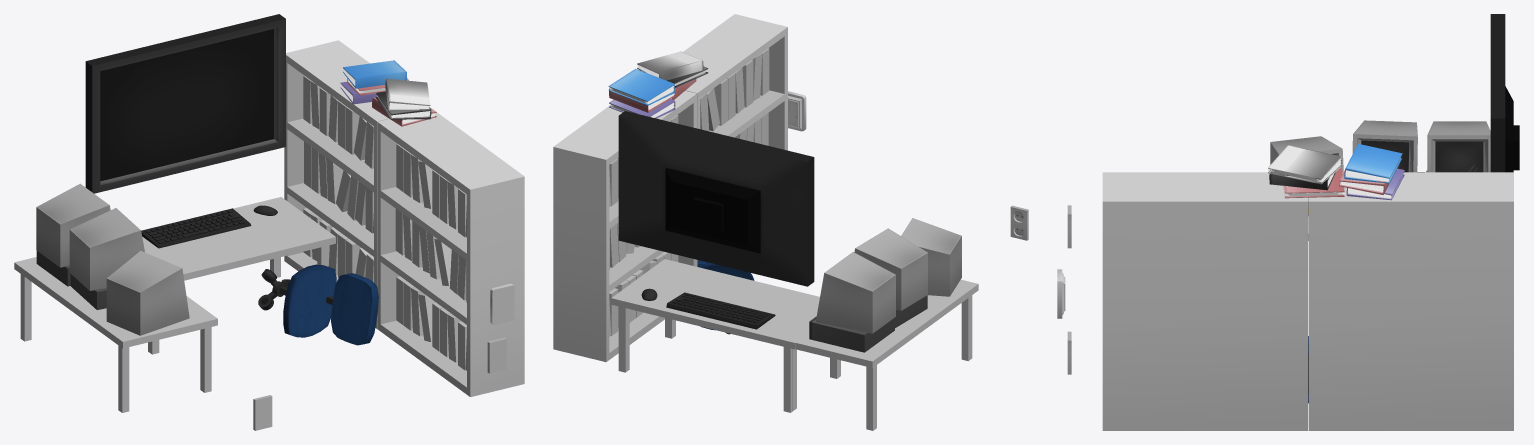
The model's file is RoomEndSet.FBX.
3 views of the same model, side by side, from view 1: azimuth 30°, elevation 25°; view 2: azimuth 150°, elevation 25°; view 3: azimuth 270°, elevation 25° (orthographic). The views are drawn at different scales.
Parts seen in each view (by area): view 1: moniter0 003, bookshelf039, bookshelf040, Books016, Books017, Box570, Box585, Box572, Box583, Box581, Box579, keyboard004 (+8 smaller); view 2: moniter0 003, bookshelf040, Box570, bookshelf039, Box572, Box579, Books016, Box581, Box583, Books017, keyboard004, Box580 (+8 smaller); view 3: bookshelf039, bookshelf040, moniter0 003, Box579, Box581, Box578, Box575, Box583, Box576, Box573, Box577, Box574.
Part boxes in pixels (left/top/right/bottom): moniter0 003: left=85, top=14, right=285, bottom=193; bookshelf039: left=377, top=109, right=524, bottom=396; bookshelf040: left=284, top=40, right=431, bottom=328; Books016: left=395, top=144, right=466, bottom=370; Books017: left=303, top=75, right=373, bottom=282; Box570: left=142, top=197, right=335, bottom=354; Box585: left=258, top=264, right=378, bottom=345; Box572: left=14, top=257, right=217, bottom=412; Box583: left=106, top=251, right=189, bottom=335; Box581: left=69, top=208, right=144, bottom=290; Box579: left=36, top=183, right=110, bottom=267; keyboard004: left=141, top=208, right=251, bottom=248; moniter0 003: left=618, top=111, right=814, bottom=286; bookshelf040: left=553, top=90, right=696, bottom=362; Box570: left=611, top=259, right=840, bottom=412; bookshelf039: left=683, top=14, right=787, bottom=266; Box572: left=781, top=279, right=978, bottom=430; Box579: left=815, top=252, right=895, bottom=333; Books016: left=700, top=48, right=769, bottom=145; Box581: left=854, top=228, right=927, bottom=310; Box583: left=901, top=218, right=961, bottom=296; Books017: left=609, top=115, right=678, bottom=336; keyboard004: left=666, top=292, right=775, bottom=329; Box580: left=809, top=316, right=894, bottom=352; bookshelf039: left=1102, top=172, right=1307, bottom=430; bookshelf040: left=1308, top=172, right=1513, bottom=430; moniter0 003: left=1490, top=14, right=1519, bottom=172; Box579: left=1427, top=121, right=1490, bottom=172; Box581: left=1352, top=120, right=1417, bottom=172; Box578: left=1268, top=145, right=1341, bottom=184; Box575: left=1344, top=144, right=1402, bottom=183; Box583: left=1270, top=136, right=1343, bottom=216; Box576: left=1283, top=167, right=1344, bottom=198; Box573: left=1346, top=168, right=1404, bottom=200; Box577: left=1269, top=172, right=1335, bottom=190; Box574: left=1339, top=170, right=1396, bottom=194.
Size of the model in its own units: 34.29 by 37.97 by 26.21.
